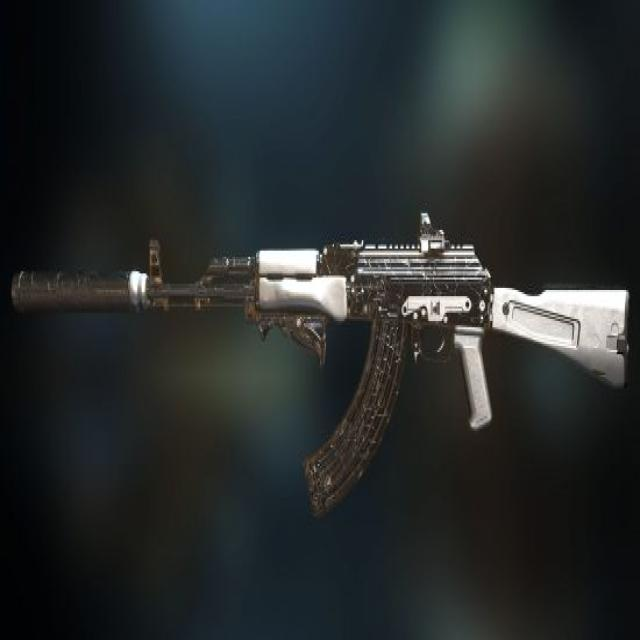Rifle: (9, 213, 626, 522)
